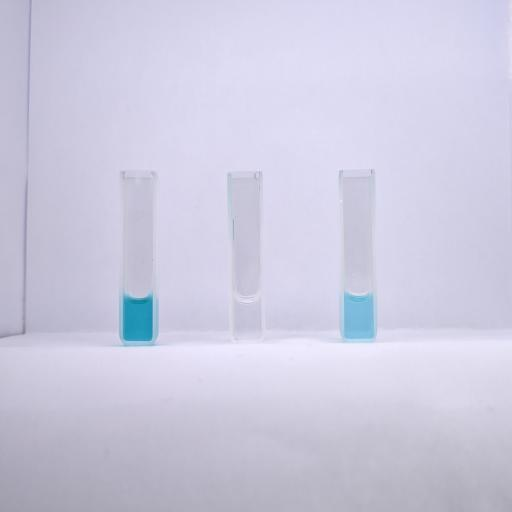cuvette: (335, 166, 381, 347), (117, 167, 160, 349), (225, 169, 267, 347)
liquid: (123, 295, 153, 341), (232, 295, 261, 339), (345, 292, 373, 336)
